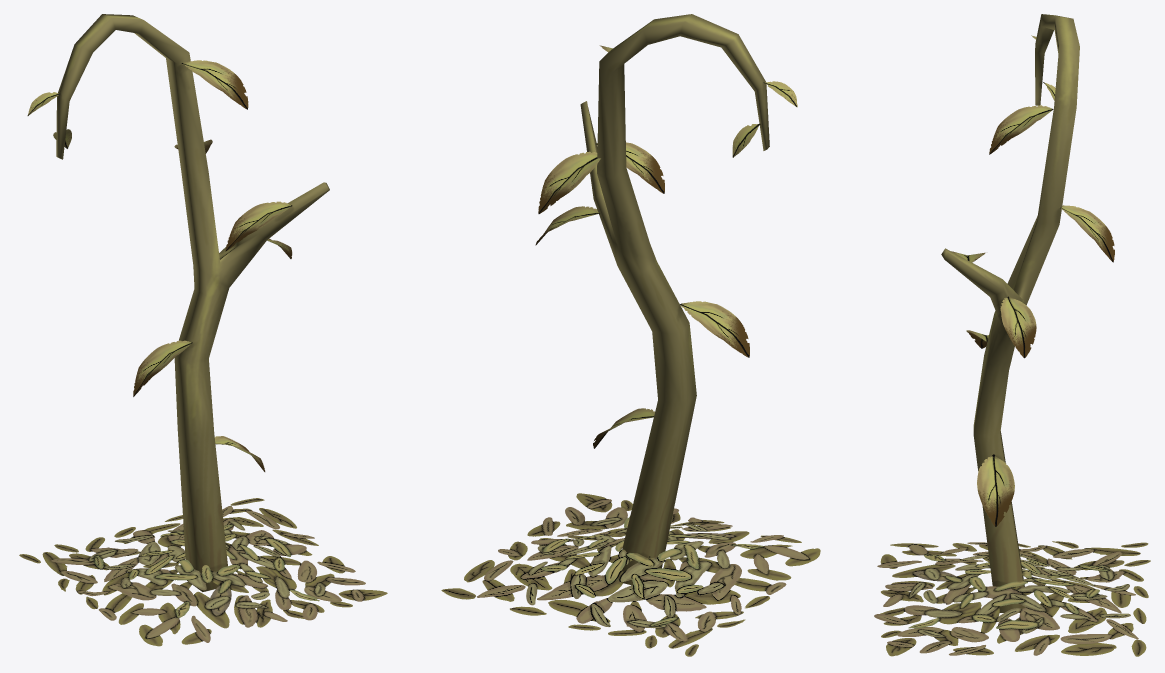
File: SM_Deadplant.fbx
3 renders of one model, left to right at view 1: azimuth 30°, elevation 25°; view 2: azimuth 150°, elevation 25°; view 3: azimuth 270°, elevation 25°, orthographic. The views are drawn at different scales.
Parts seen in each view (by area): view 1: SM_Deadplant; view 2: SM_Deadplant; view 3: SM_Deadplant.
Boxes of the visible parts, bbox=[...] form: SM_Deadplant: bbox=[19, 14, 387, 646]; SM_Deadplant: bbox=[441, 14, 820, 656]; SM_Deadplant: bbox=[874, 14, 1150, 656].
Size of the model in its own units: 39.97 by 74.79 by 34.05.
